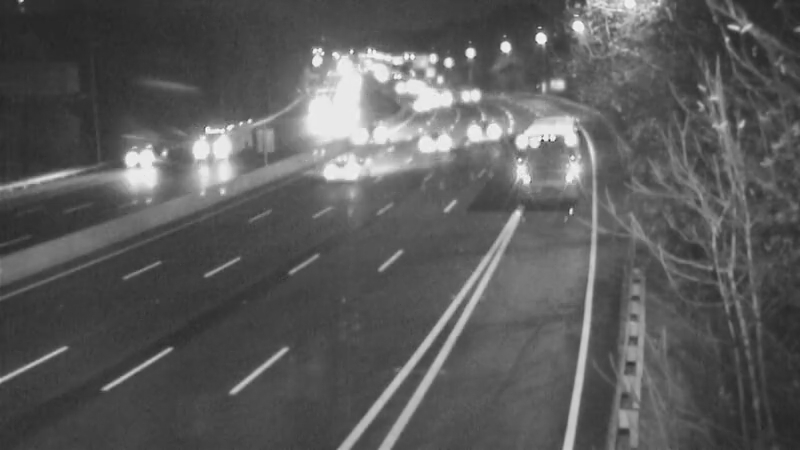vehicle: (321, 132, 401, 212), (479, 146, 559, 226), (90, 124, 170, 204), (161, 114, 241, 194), (435, 64, 485, 114), (401, 77, 451, 127), (458, 95, 508, 145), (360, 105, 410, 155), (405, 116, 455, 166)
